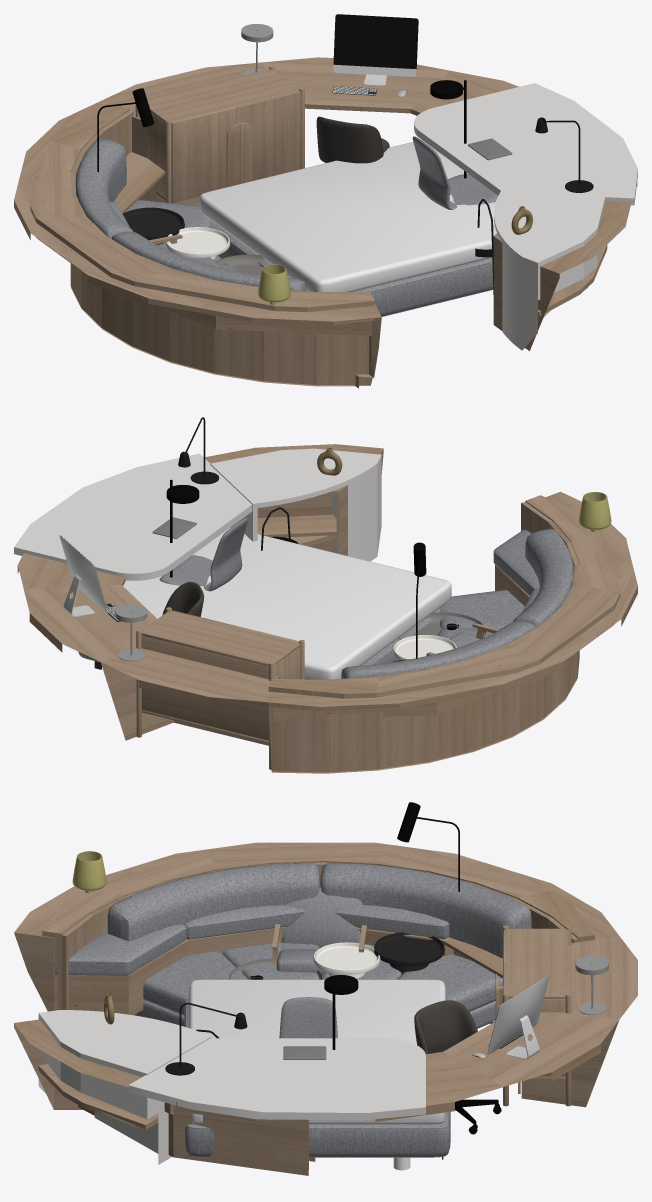
Rendered from furniture-pod.glb.
3 views of the same model, one above another, from view 1: azimuth 30°, elevation 25°; view 2: azimuth 150°, elevation 25°; view 3: azimuth 270°, elevation 25° (orthographic). The views are drawn at different scales.
Visible parts, largest first — view 1: live, sleep, work; view 2: live, work, sleep; view 3: live, work, sleep.
Boxes of the visible parts, x1,y1,x2,y2 form: live: [30, 83, 637, 386]; sleep: [97, 65, 496, 316]; work: [14, 14, 637, 388]; live: [14, 417, 620, 773]; work: [17, 444, 637, 745]; sleep: [78, 527, 499, 769]; live: [38, 845, 594, 1170]; work: [14, 842, 637, 1175]; sleep: [184, 802, 571, 1159].
Bounding box in the file's own units: 4.58 × 1.58 × 4.41.
Materials: 38 (8 with a texture image).
